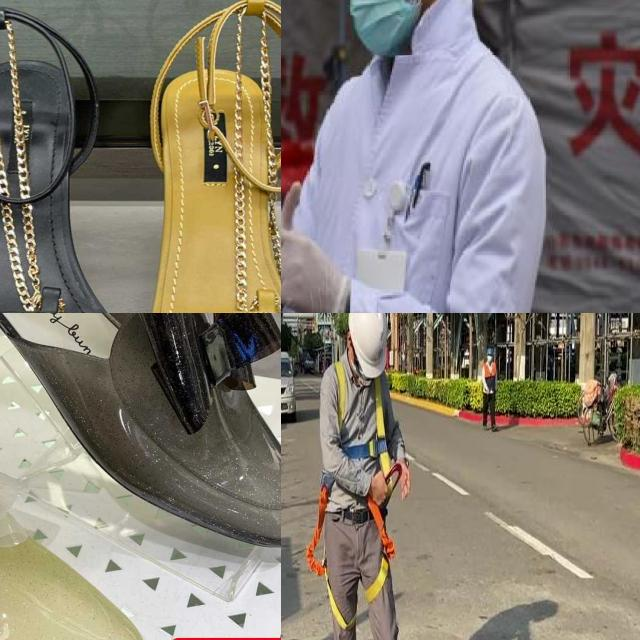Harness: (306, 483, 356, 630), (335, 361, 392, 476), (365, 496, 396, 604)
Sandals: (0, 313, 281, 576), (0, 0, 170, 313), (144, 0, 281, 313), (0, 452, 155, 640)
face_mask: (332, 0, 423, 58)
hand_glove: (281, 221, 341, 313), (281, 177, 299, 313)
person: (281, 0, 540, 313)
